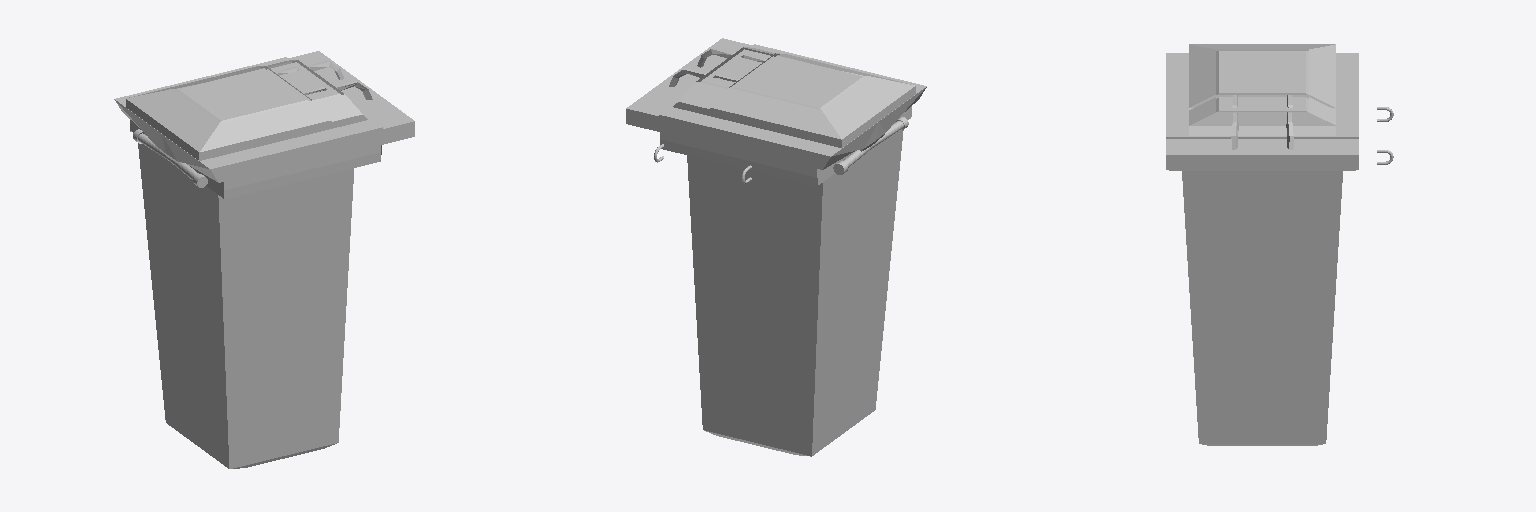
Rendered from lixeira1.obj.
3 views of the same model, side by side, from view 1: azimuth 30°, elevation 25°; view 2: azimuth 150°, elevation 25°; view 3: azimuth 270°, elevation 25° (orthographic).
Visible parts, largest first — view 1: Plane.002_Plane.004; view 2: Plane.002_Plane.004; view 3: Plane.002_Plane.004.
Boxes of the visible parts, x1=… form: Plane.002_Plane.004: x1=114, y1=51, x2=414, y2=468; Plane.002_Plane.004: x1=626, y1=38, x2=926, y2=456; Plane.002_Plane.004: x1=1166, y1=44, x2=1358, y2=445.
Bounding box in the file's own units: 5.66 × 9.18 × 5.44.